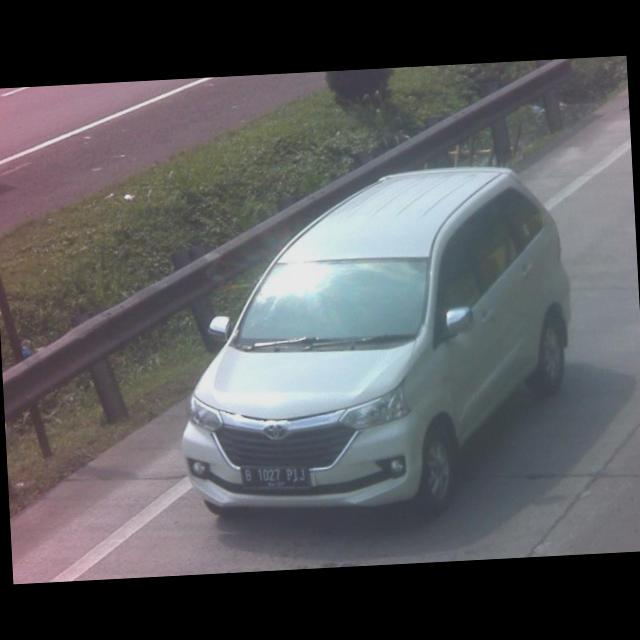plate: (238, 462, 310, 493)
